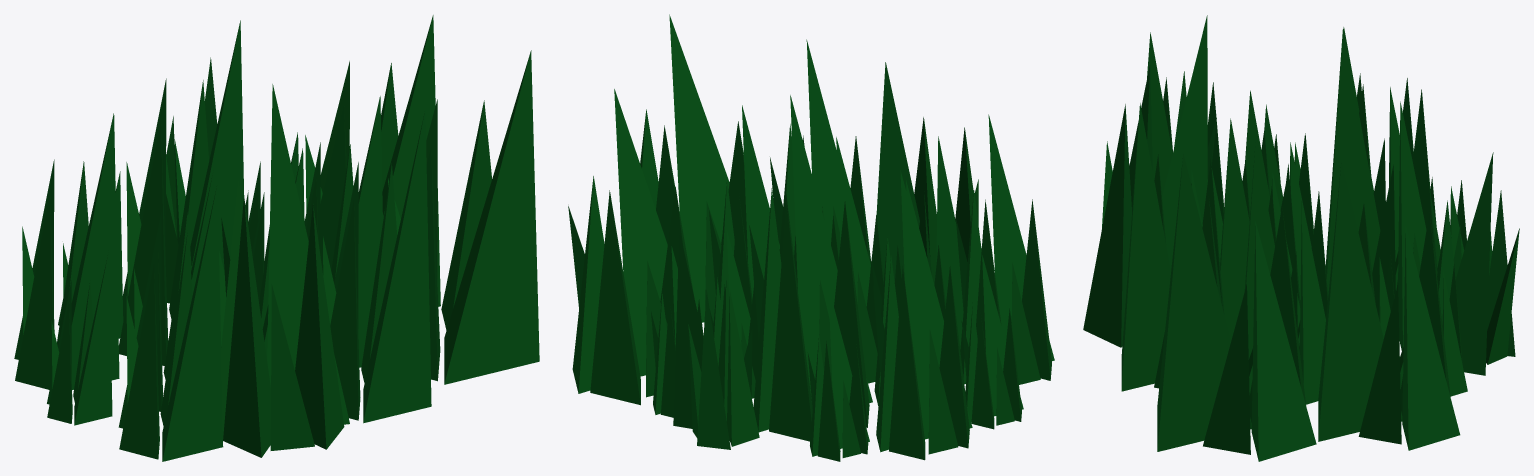
File: Grass.fbx
3 views of the same model, side by side, from view 1: azimuth 30°, elevation 25°; view 2: azimuth 150°, elevation 25°; view 3: azimuth 270°, elevation 25° (orthographic). The views are drawn at different scales.
Parts seen in each view (by area): view 1: Cone.004; view 2: Cone.004; view 3: Cone.004.
Boxes of the visible parts, x1,y1,x2,y2 form: Cone.004: (14,15,539,461); Cone.004: (568,14,1054,461); Cone.004: (1083,15,1519,461).
Bounding box in the file's own units: 834 × 572 × 689.
